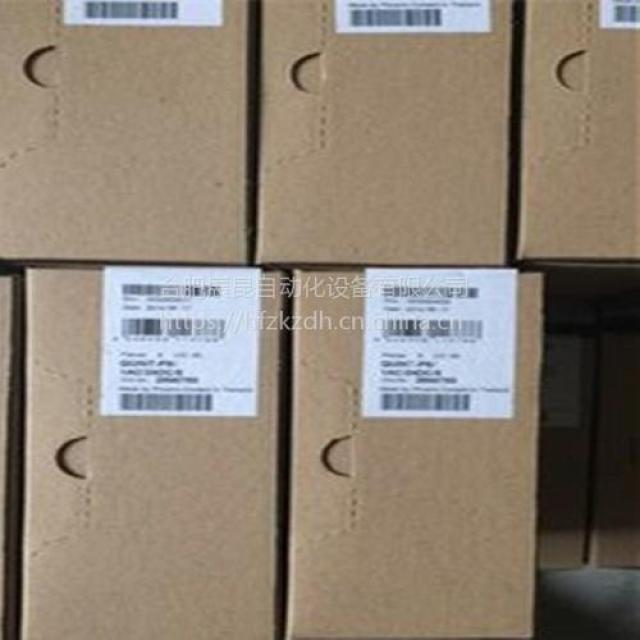box: (18, 269, 286, 639), (287, 269, 541, 638), (251, 1, 514, 267), (0, 1, 258, 268), (514, 1, 639, 331)
